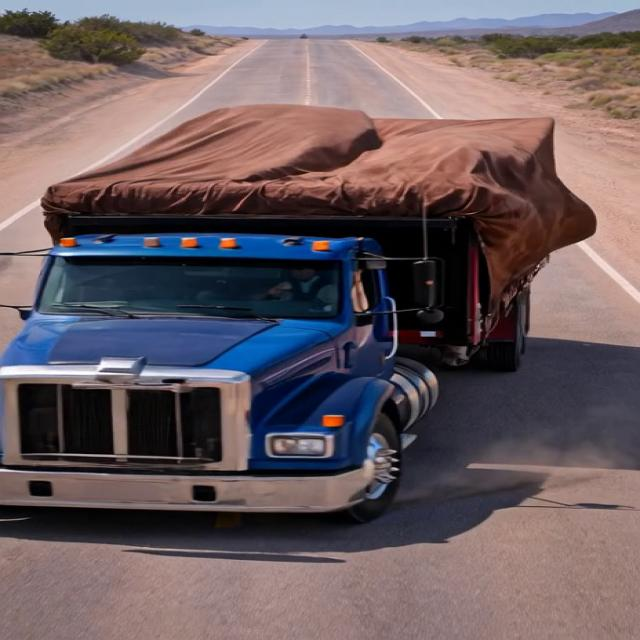trailer: (52, 113, 570, 211)
truck: (8, 84, 590, 526)
